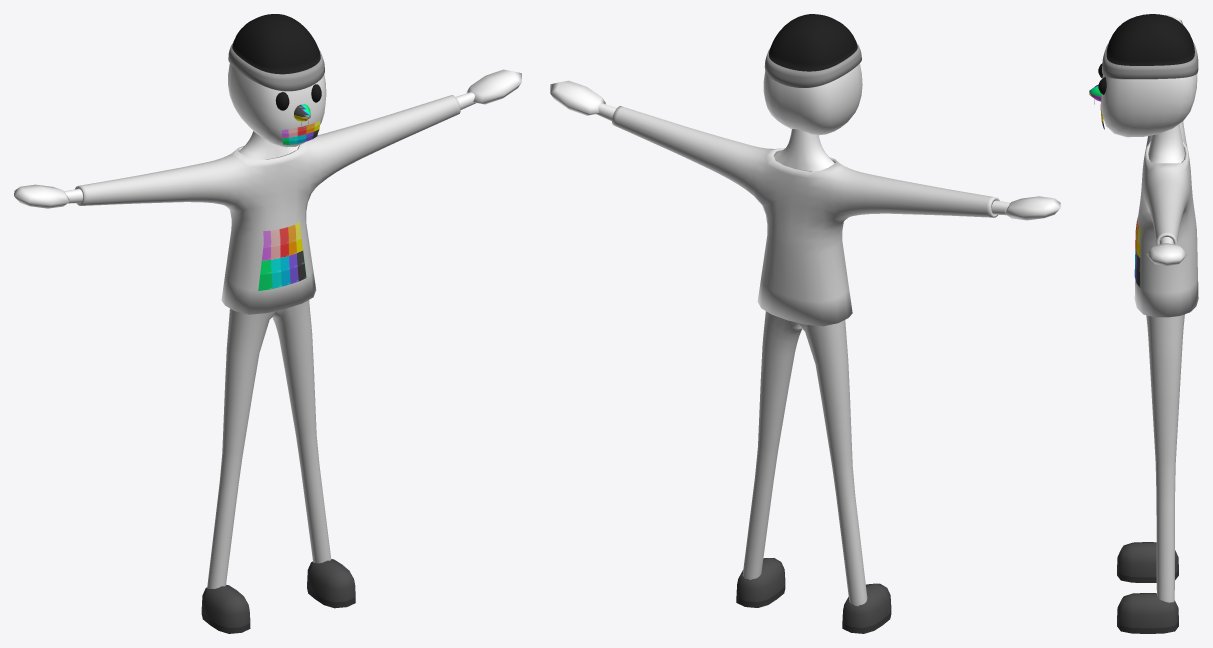
The model's file is Artista_tecnico.fbx.
3 renders of one model, left to right at view 1: azimuth 30°, elevation 25°; view 2: azimuth 150°, elevation 25°; view 3: azimuth 270°, elevation 25°, orthographic.
Parts seen in each view (by area): view 1: Human; view 2: Human; view 3: Human.
Boxes of the visible parts, left/top/right/bottom form: Human: left=14, top=14, right=521, bottom=633; Human: left=550, top=14, right=1060, bottom=633; Human: left=1089, top=14, right=1198, bottom=633.
Bounding box in the file's own units: 128 × 142 × 24.03.
